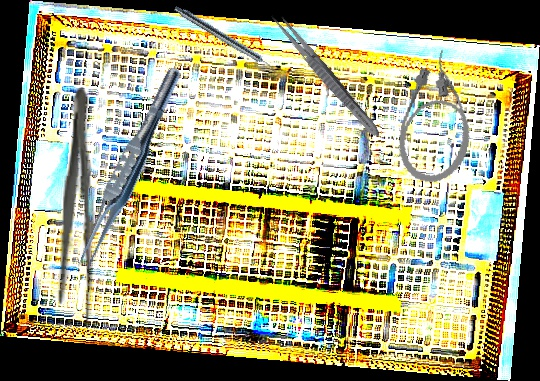Cannula: (390, 45, 487, 190)
Dressing Forceps: (267, 9, 385, 142), (55, 86, 100, 323)
Handpiece: (171, 4, 280, 75)
Tissue Forceps: (70, 61, 187, 277)
